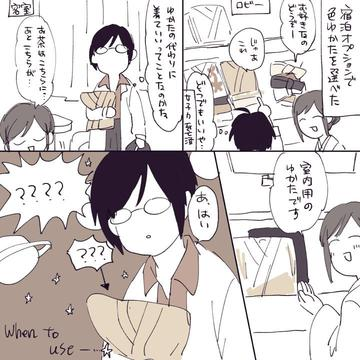bubble: (142, 0, 184, 130), (268, 151, 328, 237), (321, 0, 358, 115), (13, 16, 57, 108), (279, 1, 315, 63), (188, 186, 218, 245), (230, 27, 265, 72), (67, 236, 112, 269)
